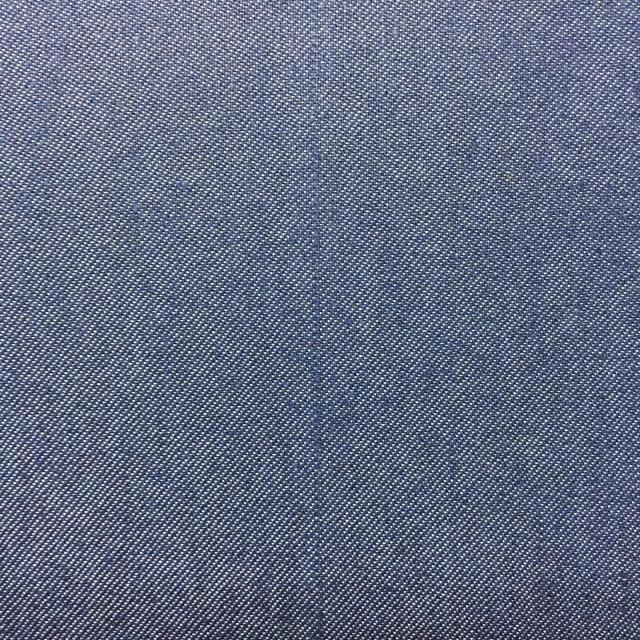Line: (310, 0, 328, 640)
